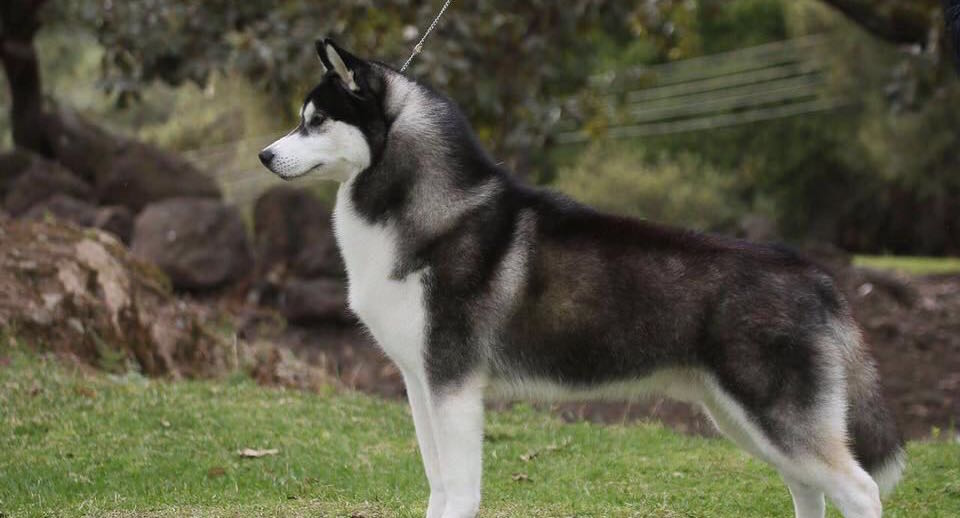husky: (253, 30, 882, 512)
